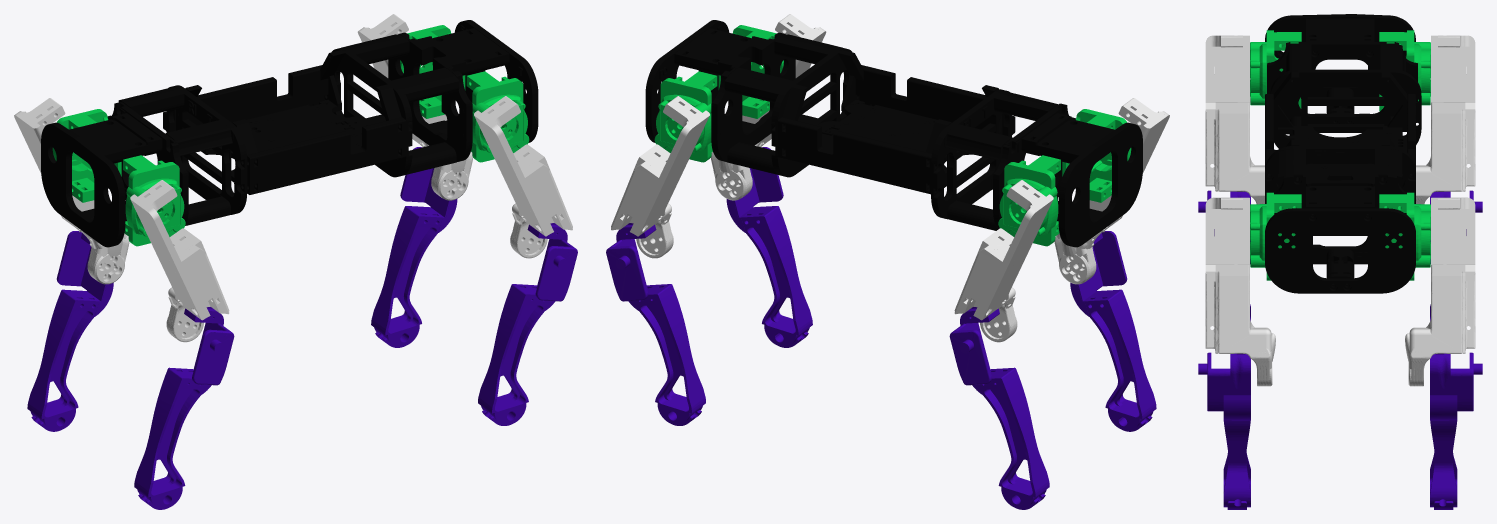
Rendered from Nova.fbx.
3 views of the same model, side by side, from view 1: azimuth 30°, elevation 25°; view 2: azimuth 150°, elevation 25°; view 3: azimuth 270°, elevation 25° (orthographic). The views are drawn at different scales.
Parts seen in each view (by area): view 1: SM3 Frame ChassisTrunk, SM3 Frame RearShoulderOuter, SM3 Frame RearShoulderInner, SM3 Frame LeftTibia.001, SM3 Frame LeftTibia, SM3 Frame FrontShoulderInner, SM3 Frame LeftTibia.003, SM3 Frame FrontShoulderMiddle, SM3 Frame LeftTibia.002, SM3 Frame LeftFemur, SM3 Frame LeftFemur.001, SM3 Frame LeftFemur.003 (+7 smaller); view 2: SM3 Frame ChassisTrunk, SM3 Frame RearShoulderOuter, SM3 Frame RearShoulderInner, SM3 Frame LeftTibia.002, SM3 Frame LeftTibia.003, SM3 Frame FrontShoulderInner, SM3 Frame LeftTibia, SM3 Frame FrontShoulderMiddle, SM3 Frame LeftTibia.001, SM3 Frame LeftFemur.003, SM3 Frame LeftFemur.002, SM3 Frame LeftFemur (+7 smaller); view 3: SM3 Frame FrontShoulderOuter, SM3 Frame LeftFemur.002, SM3 Frame LeftFemur.001, SM3 Frame LeftFemur.003, SM3 Frame LeftFemur, SM3 Frame RearShoulderInner, SM3 Frame ChassisTrunk, SM3 Frame FrontShoulderMiddle, SM3 Frame LeftTibia.002, SM3 Frame LeftTibia.001, SM3 Frame FrontShoulderInner, SM3 Frame RearShoulderOuter (+5 smaller).
Boxes of the visible parts, bbox=[...] form: SM3 Frame ChassisTrunk: bbox=[176, 50, 406, 194]; SM3 Frame RearShoulderOuter: bbox=[41, 113, 162, 247]; SM3 Frame RearShoulderInner: bbox=[118, 85, 247, 225]; SM3 Frame LeftTibia.001: bbox=[478, 223, 577, 425]; SM3 Frame LeftTibia: bbox=[134, 307, 234, 509]; SM3 Frame FrontShoulderInner: bbox=[332, 34, 459, 177]; SM3 Frame LeftTibia.003: bbox=[27, 231, 113, 431]; SM3 Frame FrontShoulderMiddle: bbox=[388, 28, 509, 161]; SM3 Frame LeftTibia.002: bbox=[371, 147, 457, 347]; SM3 Frame LeftFemur: bbox=[130, 180, 229, 342]; SM3 Frame LeftFemur.001: bbox=[474, 96, 572, 258]; SM3 Frame LeftFemur.003: bbox=[14, 98, 129, 284]; SM3 Frame ChassisTrunk: bbox=[777, 50, 1011, 194]; SM3 Frame RearShoulderOuter: bbox=[1021, 113, 1142, 247]; SM3 Frame RearShoulderInner: bbox=[931, 89, 1057, 230]; SM3 Frame LeftTibia.002: bbox=[606, 223, 705, 425]; SM3 Frame LeftTibia.003: bbox=[949, 307, 1049, 509]; SM3 Frame FrontShoulderInner: bbox=[724, 34, 851, 177]; SM3 Frame LeftTibia: bbox=[1070, 231, 1156, 431]; SM3 Frame FrontShoulderMiddle: bbox=[674, 28, 795, 161]; SM3 Frame LeftTibia.001: bbox=[726, 147, 812, 347]; SM3 Frame LeftFemur.003: bbox=[954, 180, 1053, 342]; SM3 Frame LeftFemur.002: bbox=[611, 96, 709, 258]; SM3 Frame LeftFemur: bbox=[1054, 98, 1169, 284]; SM3 Frame FrontShoulderOuter: bbox=[1265, 208, 1415, 293]; SM3 Frame LeftFemur.002: bbox=[1405, 197, 1475, 386]; SM3 Frame LeftFemur.001: bbox=[1205, 197, 1275, 386]; SM3 Frame LeftFemur.003: bbox=[1416, 35, 1475, 204]; SM3 Frame LeftFemur: bbox=[1205, 35, 1264, 204]; SM3 Frame RearShoulderInner: bbox=[1270, 44, 1421, 148]; SM3 Frame ChassisTrunk: bbox=[1265, 71, 1415, 188]; SM3 Frame FrontShoulderMiddle: bbox=[1265, 174, 1415, 286]; SM3 Frame LeftTibia.002: bbox=[1430, 352, 1482, 509]; SM3 Frame LeftTibia.001: bbox=[1198, 352, 1250, 509]; SM3 Frame FrontShoulderInner: bbox=[1265, 146, 1415, 235]; SM3 Frame RearShoulderOuter: bbox=[1265, 14, 1415, 122].
Size of the model in its own units: 35.03 by 26 by 20.72.
